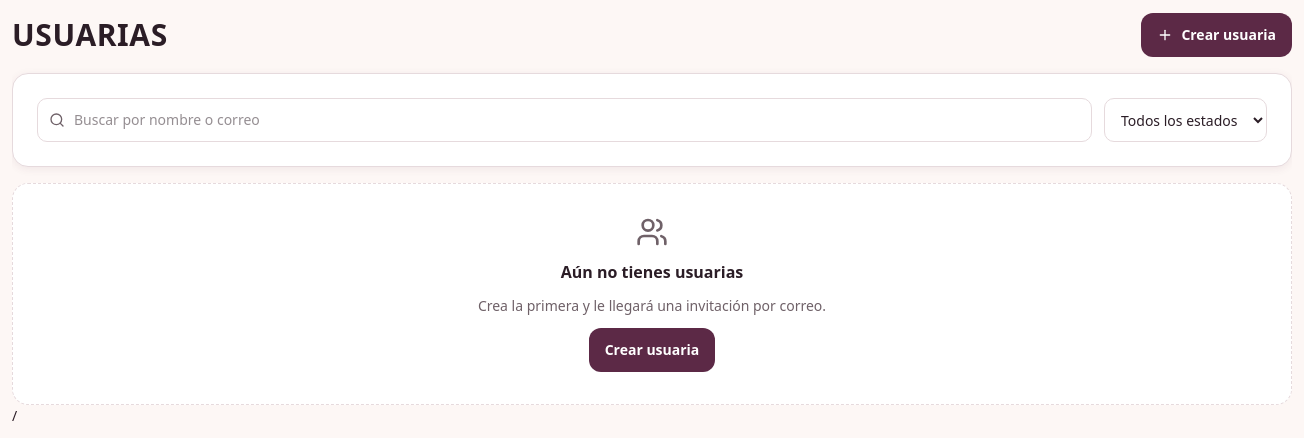
Test: UsersListPage (HU-05/06) › con filtros sin coincidencias muestra "Sin resultados"
Expected: the heading "Aún no tienes usuarias" is shown, [561, 260, 743, 284]
Step 1. Select "Inactiva" in the dropdown named "Filtrar por estado" → (1186, 120), box [1104, 98, 1267, 142]
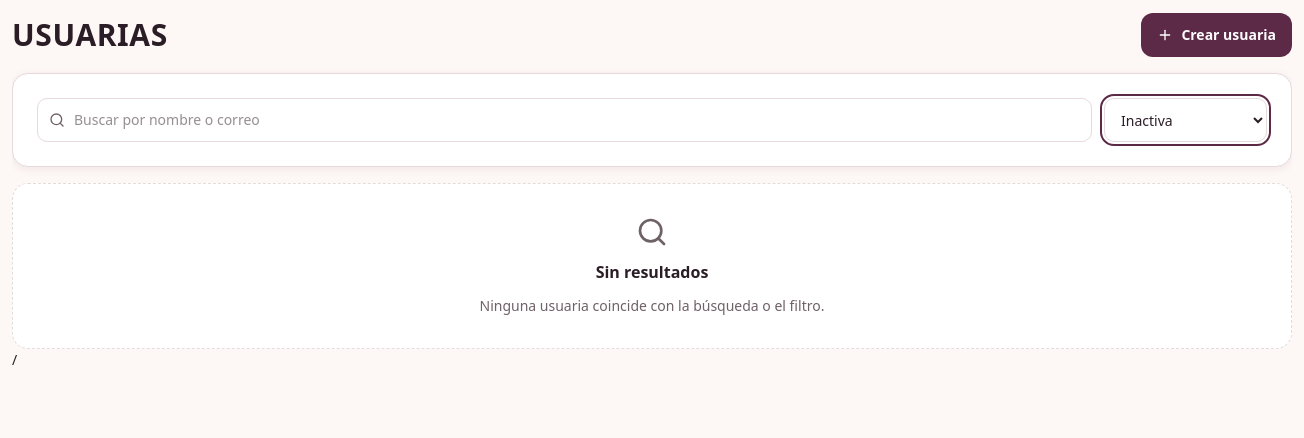
Now the heading "Sin resultados" is shown, box [596, 260, 708, 284]
